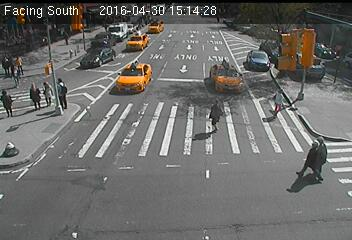neg: (234, 146, 262, 183), (295, 40, 321, 74), (11, 154, 33, 183), (154, 87, 174, 114), (129, 10, 147, 35), (162, 179, 180, 203), (102, 157, 119, 180), (112, 100, 128, 122), (90, 64, 106, 85), (328, 69, 343, 89), (224, 65, 239, 84), (177, 52, 191, 70), (1, 134, 15, 151), (144, 59, 157, 76), (107, 36, 119, 51), (221, 34, 231, 49), (251, 45, 260, 58)
pos: (303, 135, 337, 181), (202, 95, 230, 133), (301, 139, 327, 174), (47, 74, 71, 106), (266, 85, 289, 117), (37, 80, 56, 106), (22, 82, 41, 108), (8, 65, 22, 84), (1, 55, 13, 72), (12, 56, 24, 71), (61, 30, 72, 44), (8, 56, 18, 69)
